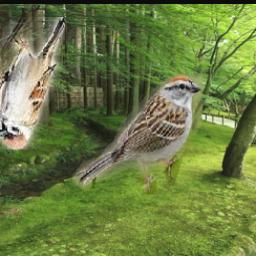Sparrow: (72, 74, 202, 195), (0, 17, 66, 150)
